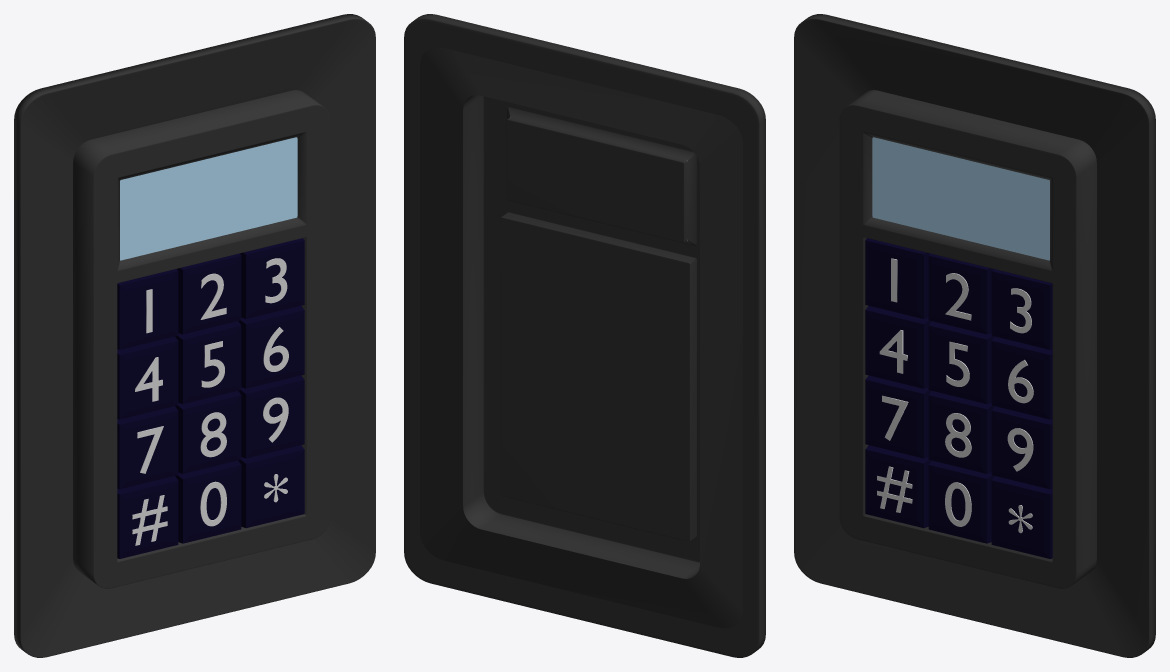
File: Security Keypad.fbx
3 views of the same model, side by side, from view 1: azimuth 30°, elevation 25°; view 2: azimuth 150°, elevation 25°; view 3: azimuth 330°, elevation 25° (orthographic).
Parts seen in each view (by area): view 1: BackPanel, MainBody, Keys, Glass, Text.010, Text.008, Text.011, Text.009, Text.006, Text.005, Text.004, Text.001; view 2: BackPanel, MainBody; view 3: BackPanel, MainBody, Keys, Glass, Text.010, Text.008, Text.011, Text.009, Text.006, Text.004, Text.005.
Part boxes in pixels (x1,y1,x2,y2): BackPanel: [14, 14, 375, 657]; MainBody: [73, 90, 330, 588]; Keys: [117, 238, 304, 558]; Glass: [120, 137, 297, 260]; Text.010: [132, 495, 167, 545]; Text.008: [200, 412, 226, 457]; Text.011: [200, 481, 226, 526]; Text.009: [263, 397, 288, 442]; Text.006: [263, 327, 288, 371]; Text.005: [201, 341, 224, 387]; Text.004: [135, 357, 162, 401]; Text.001: [200, 273, 226, 319]; BackPanel: [404, 14, 765, 657]; MainBody: [463, 95, 699, 578]; BackPanel: [794, 14, 1155, 657]; MainBody: [839, 90, 1096, 588]; Keys: [865, 238, 1052, 558]; Glass: [872, 137, 1049, 260]; Text.010: [877, 466, 912, 512]; Text.008: [945, 413, 971, 457]; Text.011: [945, 482, 971, 526]; Text.009: [1007, 428, 1033, 471]; Text.006: [1008, 360, 1033, 403]; Text.004: [879, 330, 907, 373]; Text.005: [946, 341, 969, 386].
Bounding box in the file's own units: 300 × 455 × 31.15.
